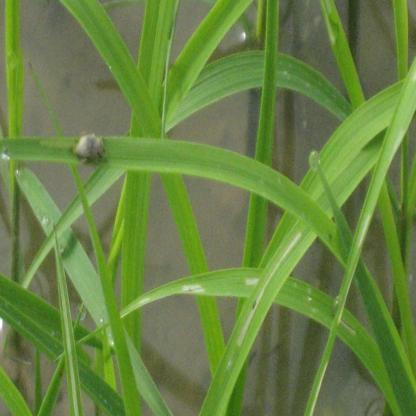rice-bug: (72, 132, 108, 165)
